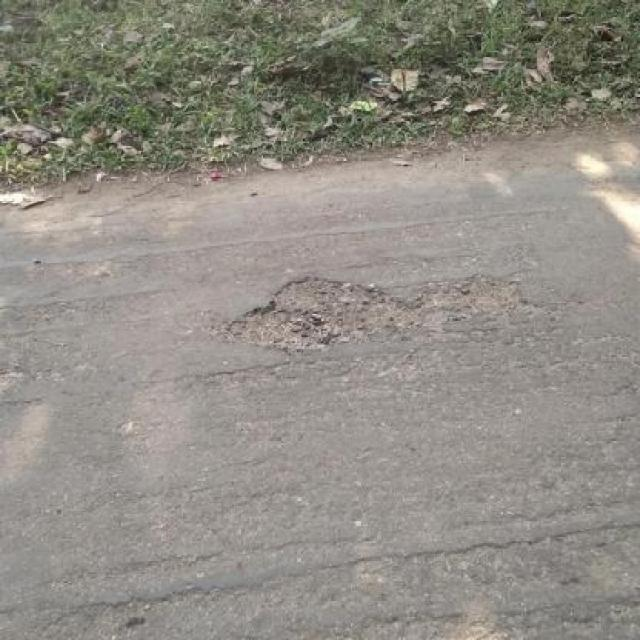Pothole: (214, 268, 533, 352)
